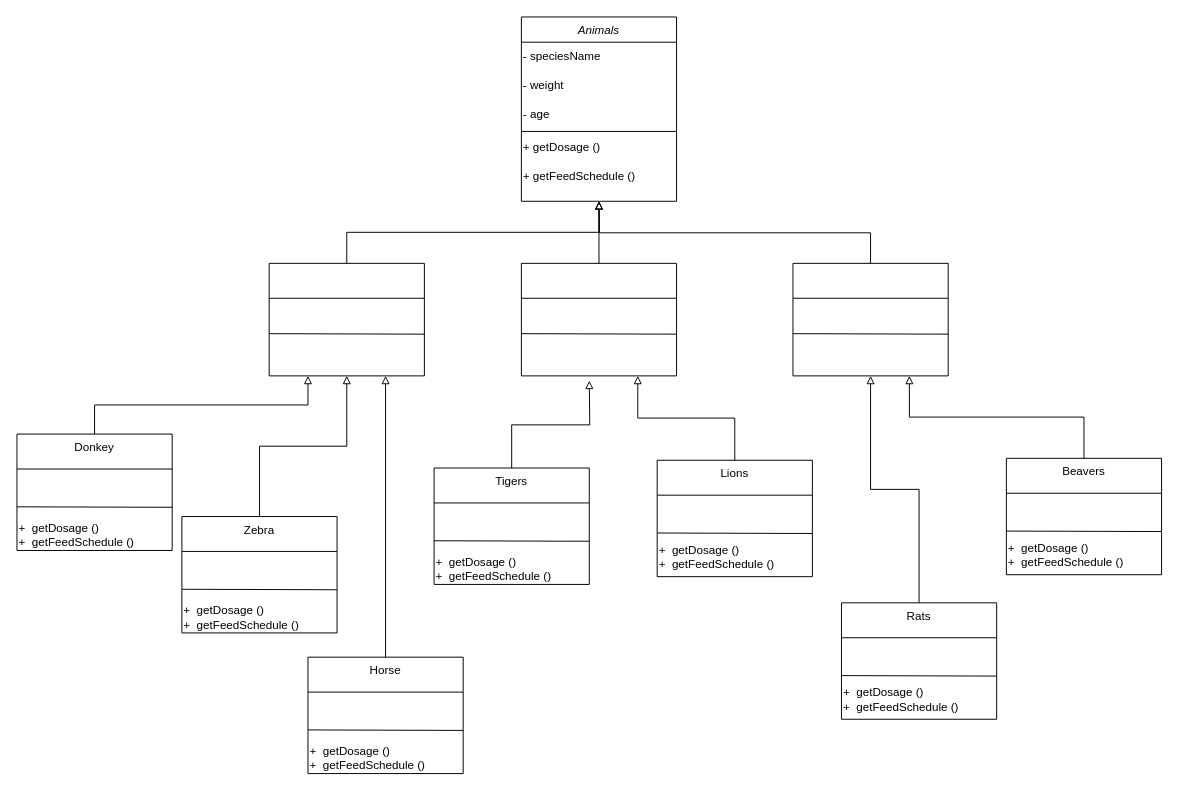
This 1180x794 diagram has some shape labels left out. Each missing label, with the centre of its shape:
"Cats" goes at point (598, 319).
"Horses" goes at point (346, 319).
"Rodents" goes at point (870, 319).
